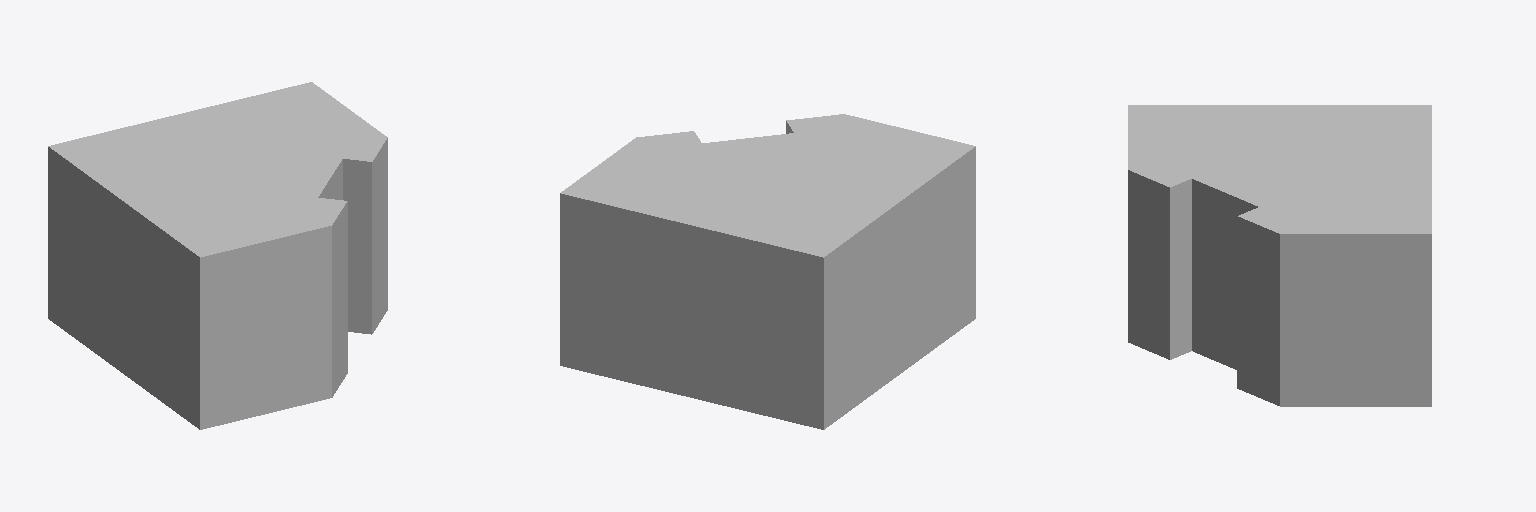
The model's file is building-corner-window-middle.obj.
The picture shows the model from 3 angles: view 1: azimuth 30°, elevation 25°; view 2: azimuth 150°, elevation 25°; view 3: azimuth 270°, elevation 25°; orthographic projection.
Visible parts, largest first — view 1: building-corner-window-middle; view 2: building-corner-window-middle; view 3: building-corner-window-middle.
Boxes of the visible parts, x1=… form: building-corner-window-middle: x1=48, y1=82, x2=387, y2=429; building-corner-window-middle: x1=560, y1=114, x2=975, y2=429; building-corner-window-middle: x1=1128, y1=105, x2=1431, y2=406.
Size of the model in its own units: 1 by 0.625 by 1.